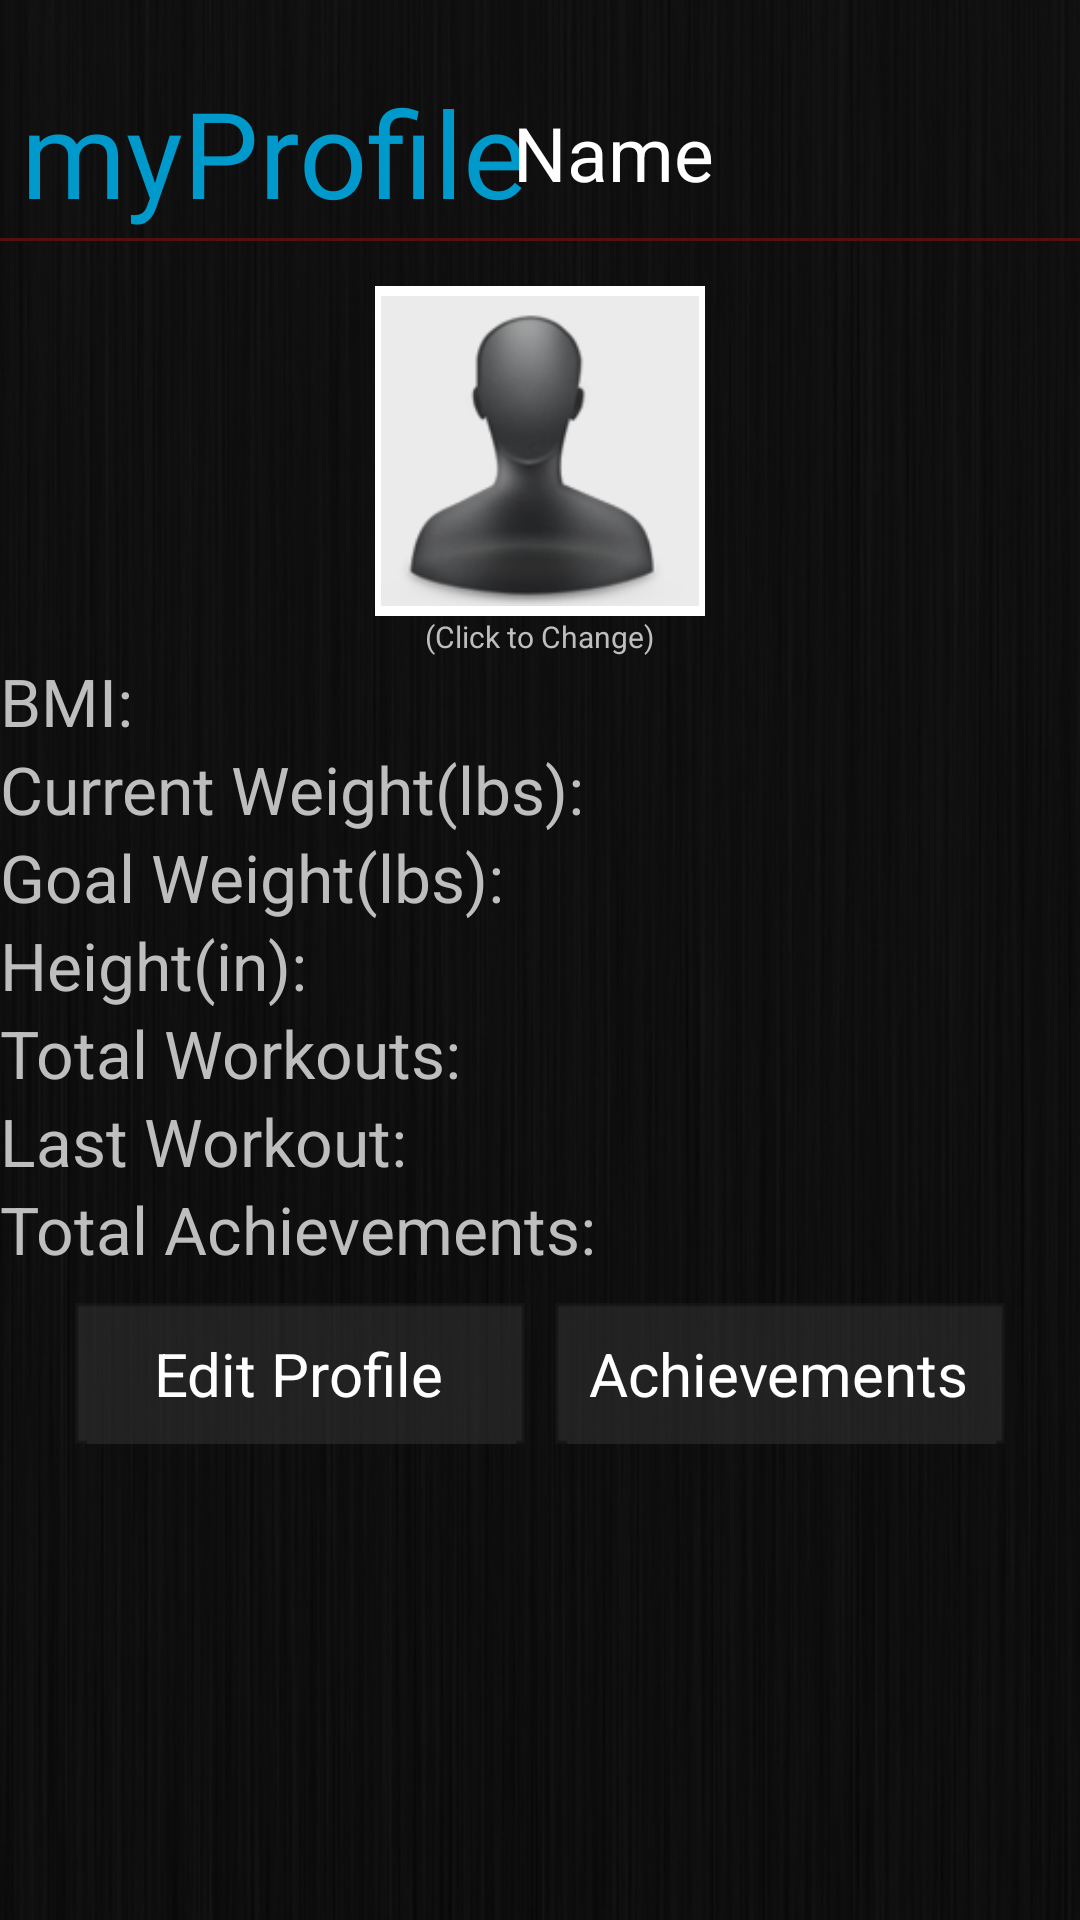

Named icons in this screenshot (1080x1920) and their centers, (x,y):
user pic: (540,451)
